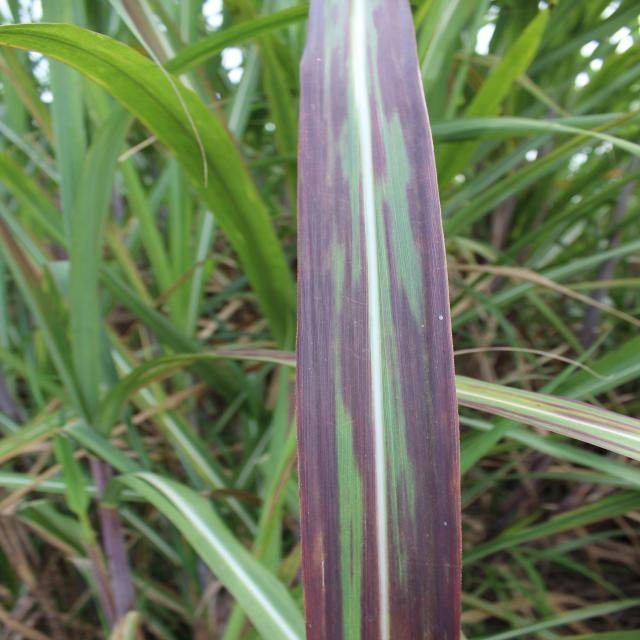Sugarcane: (288, 3, 457, 640), (2, 19, 298, 346), (110, 463, 296, 640), (446, 374, 640, 461)
